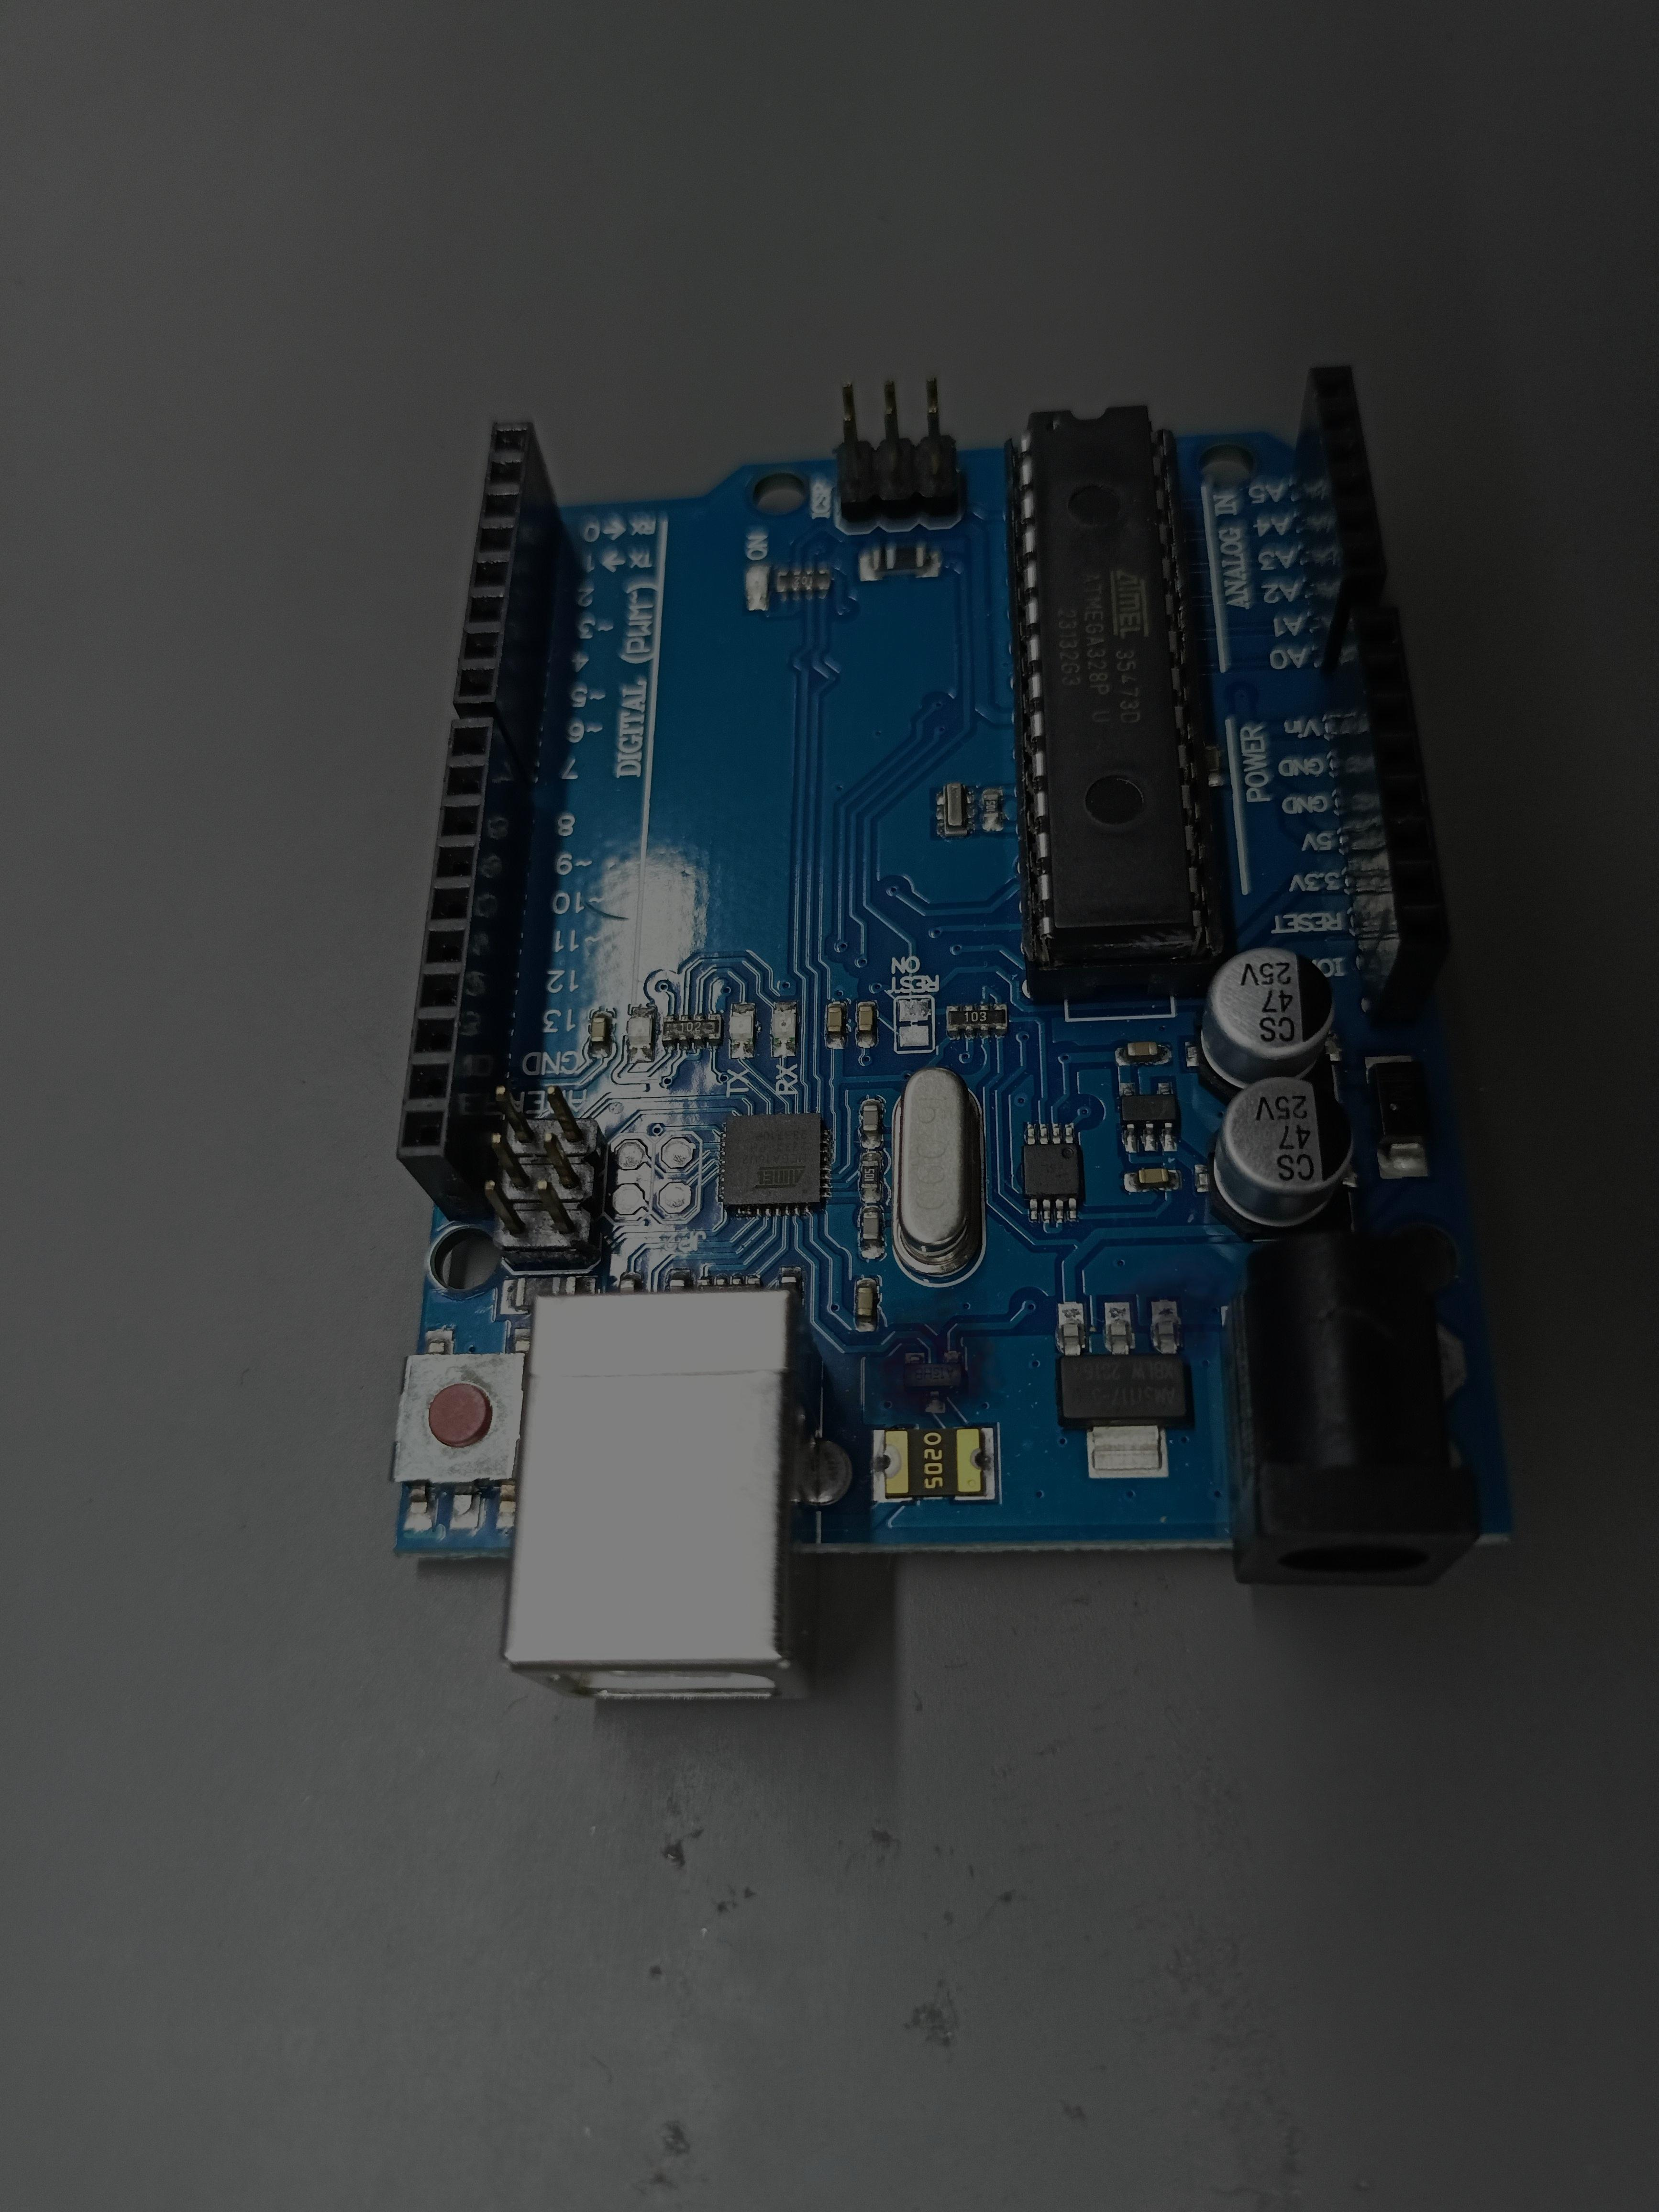ATmega328 chip: (1004, 406, 1225, 1001)
Arduino board: (390, 366, 1514, 1700)
Overheat: (845, 1278, 1007, 1425), (1115, 1261, 1232, 1366)
USB: (500, 1289, 823, 1698)
capacitor: (1206, 1076, 1354, 1242), (1194, 948, 1335, 1106)
pins: (396, 718, 535, 1221), (1351, 606, 1452, 1029), (451, 421, 561, 789), (1293, 366, 1387, 676)
resistor: (662, 1014, 721, 1049), (948, 1003, 1007, 1036), (777, 568, 829, 592), (697, 1278, 760, 1291)
